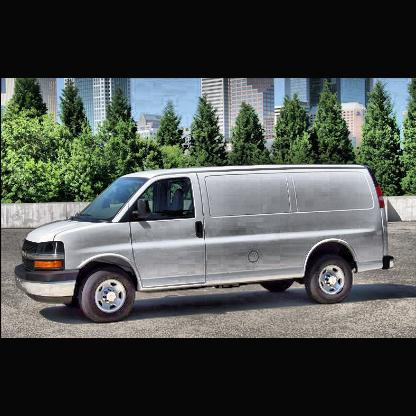Chevrolet Express Van 2007: (15, 165, 397, 324)
